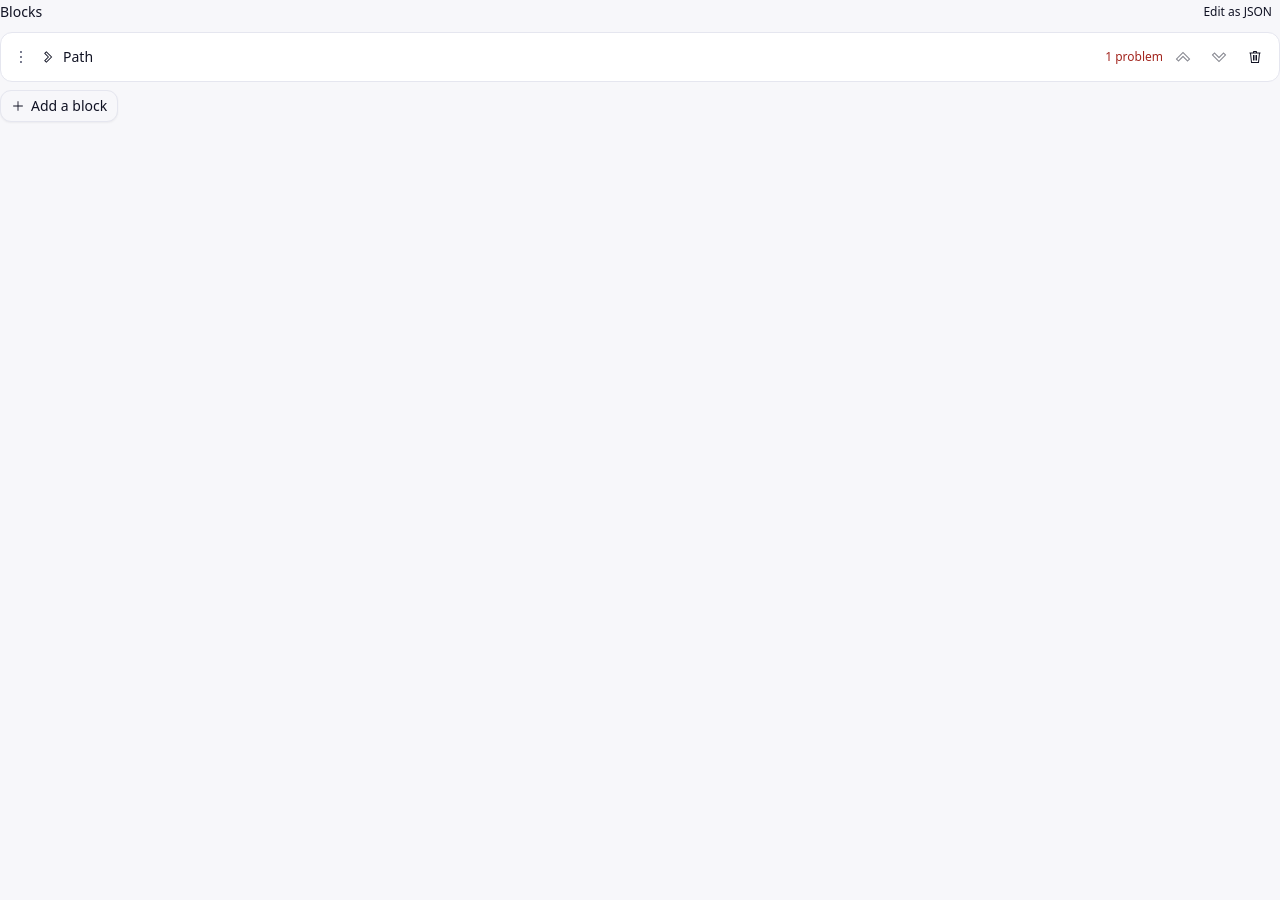
Scenario: a list of values › says when a list is shorter than its minimum
Click the button "Path". click: (78, 56)
box: 37,43 -> 1101,71
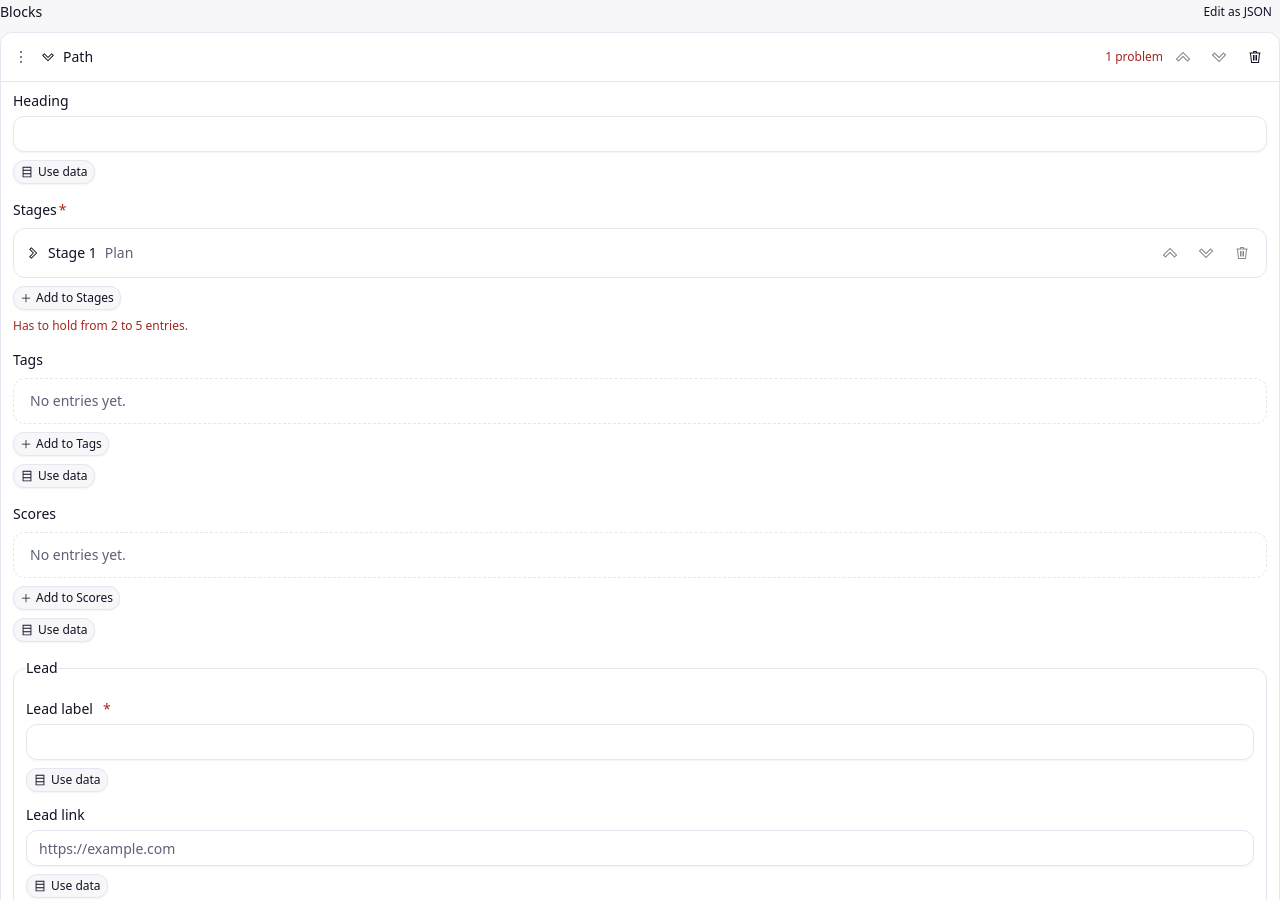
Check: the text "Has to hold from 2 to 5 entries." is shown, box 13,317 -> 188,334
